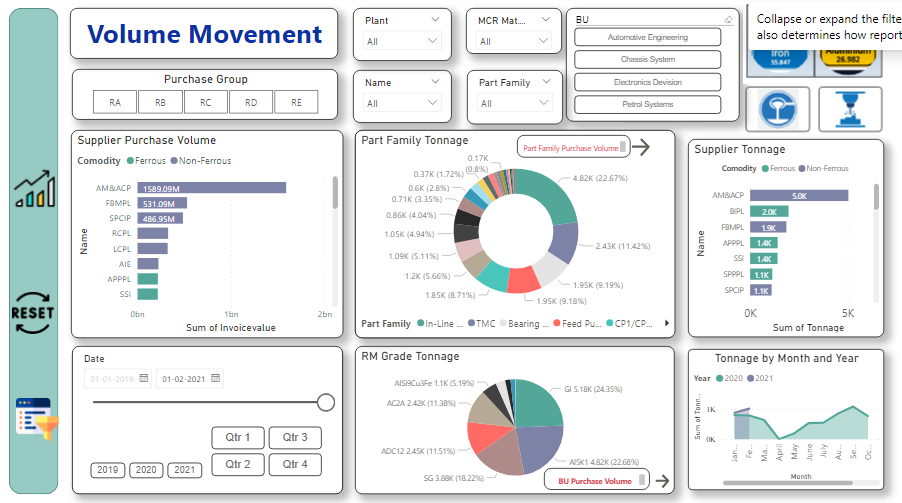

The dashboard page shown, as its layout file describes it:
{"tool":"powerbi","page":{"name":"Volume Moment ","canvas":[1280,720],"ordinal":2},"visuals":[{"type":"slicer","title":"Purchase Group","fields":{"Values":["Material weights and source.Purchasing group"]},"box":[101.8,104.2,377.3,71.8],"z":0},{"type":"slicer","title":"Supplier Name","fields":{"Values":["Supplier data.Name"]},"box":[501,104.9,139.8,74.9],"z":1000},{"type":"slicer","fields":{"Values":["Material weights and source.Part Family"]},"box":[874,124.1,135.9,83.9],"z":2000},{"type":"slicer","title":"Plant","fields":{"Values":["Master Report.Plant"]},"box":[501,16.6,139.8,74.9],"z":3000},{"type":"slicer","fields":{"Values":["Master Report.MCR Mat.grp."]},"box":[660.8,16.6,136.5,64.9],"z":4000},{"type":"ChicletSlicer1448559807354","fields":{"Category":["Supplier data.Casting"],"Image":["Supplier data.Casting Logo"]},"box":[1048.6,121,104.9,104.9],"z":5000},{"type":"ChicletSlicer1448559807354","fields":{"Category":["Supplier data.Machining"],"Image":["Supplier data.Machining Logo"]},"box":[1151.8,121,113.2,81.6],"z":6000},{"type":"barChart","title":"Supplier Purchase Volume","fields":{"Y":["Sum(Master Report.Invoicevalue)"],"Series":["Supplier data.Comodity"],"Category":["Supplier data.Name"]},"box":[100.6,189.9,385.5,294.8],"z":7000},{"type":"donutChart","title":"Part Family Purchase Volume","fields":{"Category":["Material weights and source.Part Family"],"Y":["Sum(Master Report.Invoicevalue)"]},"box":[502.7,189.8,452.7,294.6],"z":8000},{"type":"areaChart","title":"Purchase Volume by month and year","fields":{"Y":["Sum(Master Report.Invoicevalue)"],"Category":["Master Report.Date.Variation.Date Hierarchy.Month"],"Series":["Master Report.Date.Variation.Date Hierarchy.Year"]},"box":[101.5,497.7,384.5,208.1],"z":9000},{"type":"barChart","title":"Supplier Tonnage","fields":{"Y":["Sum(Master Report.Tonnage)"],"Category":["Supplier data.Name"],"Series":["Supplier data.Comodity"]},"box":[975.4,203.1,278,281.3],"z":10000},{"type":"pieChart","title":"RM Grade Tonnage","fields":{"Y":["Sum(Master Report.Tonnage)"],"Category":["Material weights and source.RM Grade"]},"box":[502.7,496,452.7,209.7],"z":11000},{"type":"areaChart","title":"Tonnage by Month and Year","fields":{"Y":["Sum(Master Report.Tonnage)"],"Series":["Master Report.Date.Variation.Date Hierarchy.Year"],"Category":["Master Report.Date.Variation.Date Hierarchy.Month"]},"box":[975.4,501,278,199.7],"z":12000},{"type":"ChicletSlicer1448559807354","title":"BU","fields":{"Category":["Master Report.BU"]},"box":[802.3,16.6,246.3,161.5],"z":13000},{"type":"ChicletSlicer1448559807354","fields":{"Category":["Supplier data.Comodity"],"Image":["Supplier data.Commodity Logo"]},"box":[1053.1,7.1,226.8,117.6],"z":14000},{"type":"slicer","fields":{"Values":["Material weights and source.Part Family"]},"box":[661.3,104.8,135.9,76.9],"z":15000},{"type":"shape","box":[13.3,16.6,69.9,689.1],"z":16000},{"type":"textbox","box":[99.9,16.6,379.5,71.6],"z":17000},{"type":"textbox","box":[771.6,669,150,31],"z":19000},{"type":"actionButton","box":[924,668,28.3,39.9],"z":20000},{"type":"actionButton","box":[18,566.1,88.1,69.2],"z":25000},{"type":"actionButton","box":[905.5,203.1,69.9,28.3],"z":26000},{"type":"textbox","box":[757.3,203.1,148.1,28.3],"z":27000},{"type":"donutChart","title":"Part Family Tonnage","fields":{"Category":["Material weights and source.Part Family"],"Y":["Sum(Master Report.Tonnage)"]},"box":[503.6,190.4,454.1,294.8],"z":28000},{"type":"textbox","box":[733,197,161,32],"z":29000},{"type":"actionButton","box":[890,197,100.7,34.8],"z":30000},{"type":"actionButton","box":[12.8,415.7,69.6,67.8],"z":31000},{"type":"actionButton","box":[7,231.5,118,83.3],"z":34000}]}

Visuals, with their boxes in screenshot pixels (x1, y1, x2, y2), scaled from the page's 1280x720 canvas onto the 902x503 screenshot:
"Purchase Group" slicer: locate(72, 73, 338, 123)
"Supplier Name" slicer: locate(353, 73, 452, 126)
slicer - Material weights and source.Part Family: locate(616, 87, 712, 145)
"Plant" slicer: locate(353, 12, 452, 64)
slicer - Master Report.MCR Mat.grp.: locate(466, 12, 562, 57)
ChicletSlicer1448559807354 - Supplier data.Casting x Supplier data.Casting Logo: locate(739, 85, 813, 158)
ChicletSlicer1448559807354 - Supplier data.Machining x Supplier data.Machining Logo: locate(812, 85, 891, 142)
"Supplier Purchase Volume" barChart: locate(71, 133, 343, 339)
"Part Family Purchase Volume" donutChart: locate(354, 133, 673, 338)
"Purchase Volume by month and year" areaChart: locate(72, 348, 342, 493)
"Supplier Tonnage" barChart: locate(687, 142, 883, 338)
"RM Grade Tonnage" pieChart: locate(354, 347, 673, 493)
"Tonnage by Month and Year" areaChart: locate(687, 350, 883, 490)
"BU" ChicletSlicer1448559807354: locate(565, 12, 739, 124)
ChicletSlicer1448559807354 - Supplier data.Comodity x Supplier data.Commodity Logo: locate(742, 5, 901, 87)
slicer - Material weights and source.Part Family: locate(466, 73, 562, 127)
shape: locate(9, 12, 59, 493)
textbox: locate(70, 12, 338, 62)
textbox: locate(544, 467, 649, 489)
actionButton: locate(651, 467, 671, 495)
actionButton: locate(13, 395, 75, 444)
actionButton: locate(638, 142, 687, 162)
textbox: locate(534, 142, 638, 162)
"Part Family Tonnage" donutChart: locate(355, 133, 675, 339)
textbox: locate(517, 138, 630, 160)
actionButton: locate(627, 138, 698, 162)
actionButton: locate(9, 290, 58, 338)
actionButton: locate(5, 162, 88, 220)
